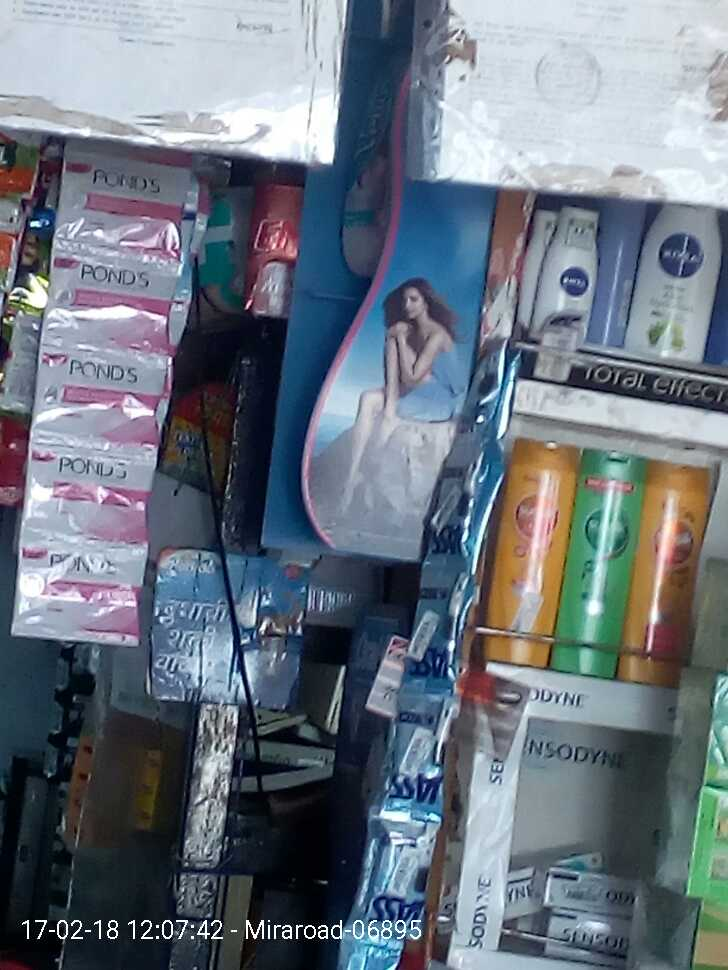reject: (350, 183, 454, 590)
